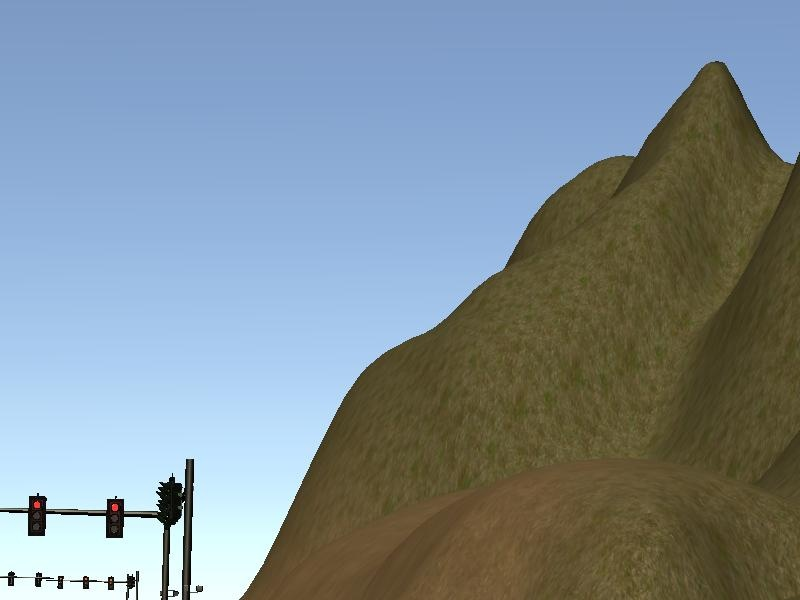red: (24, 490, 51, 540), (103, 496, 130, 544)
